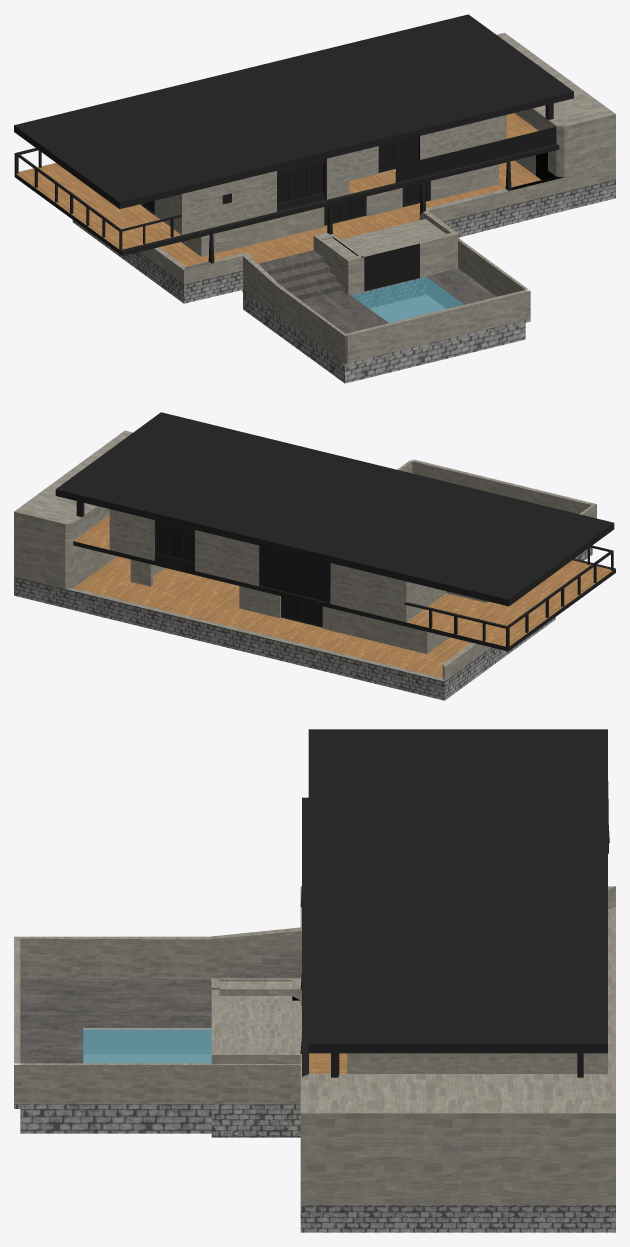
Rendered from modern_house.glb.
3 renders of one model, top to bottom at view 1: azimuth 30°, elevation 25°; view 2: azimuth 150°, elevation 25°; view 3: azimuth 270°, elevation 25°, orthographic. The views are drawn at different scales.
Visible parts, largest first — view 1: Cubo, Cubo.001, Plano.001; view 2: Cubo, Cubo.001; view 3: Cubo, Cubo.001, Plano.001.
Part boxes in pixels (x1,y1,x2,y2): Cubo: (14,14,615,307); Cubo.001: (242,239,530,383); Plano.001: (351,277,464,322); Cubo: (14,412,615,700); Cubo.001: (397,459,596,560); Cubo: (211,729,615,1232); Cubo.001: (14,927,301,1133); Plano.001: (83,1029,211,1063).
Size of the model in its own units: 54.04 by 14.53 by 40.28.
13 materials, 7 textured.
